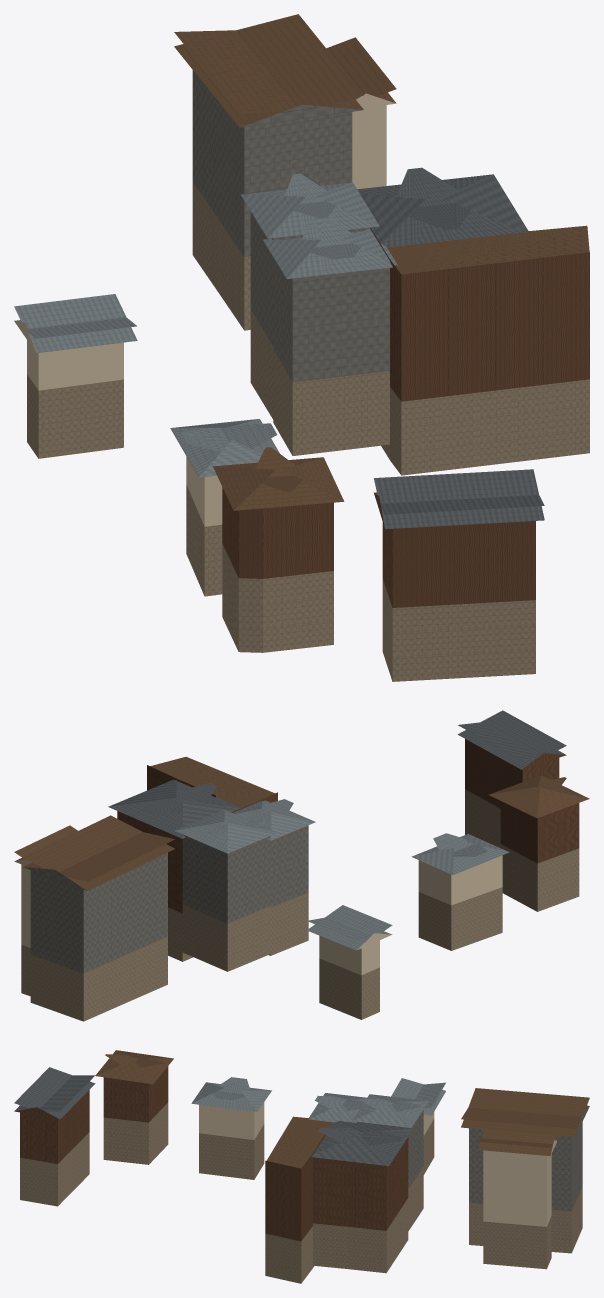
File: bld_c9_26_408.gltf
3 views of the same model, one above another, from view 1: azimuth 30°, elevation 25°; view 2: azimuth 150°, elevation 25°; view 3: azimuth 270°, elevation 25° (orthographic). The views are drawn at different scales.
Parts seen in each view (by area): view 1: bld_c9_26_408; view 2: bld_c9_26_408; view 3: bld_c9_26_408.
Part boxes in pixels (bbox=[...]): bld_c9_26_408: bbox=[14, 14, 589, 681]; bld_c9_26_408: bbox=[14, 710, 589, 1021]; bld_c9_26_408: bbox=[14, 1050, 589, 1283].
Size of the model in its own units: 37.24 by 17.1 by 62.89.
10 materials, 10 textured.
